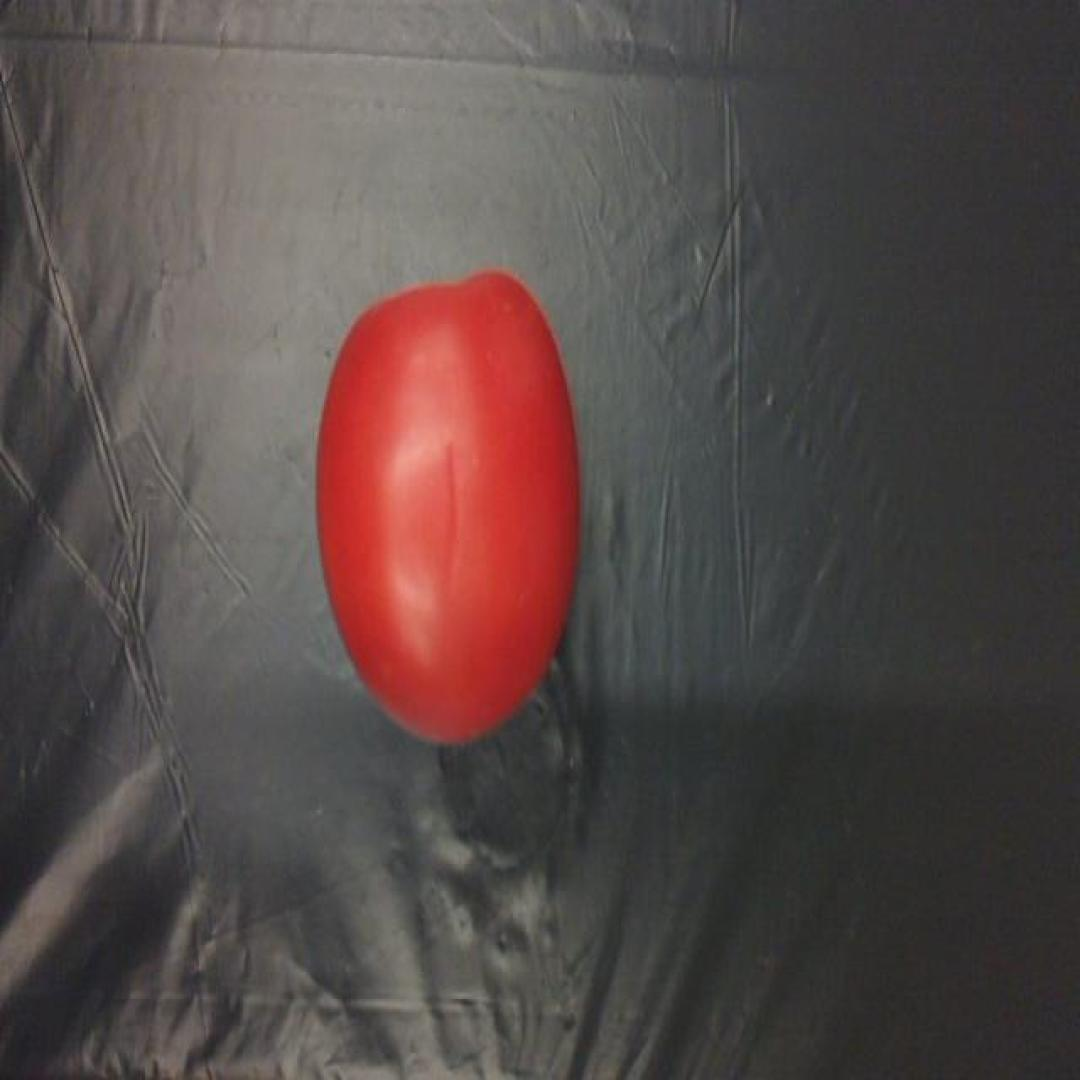matang: (314, 272, 580, 748)
